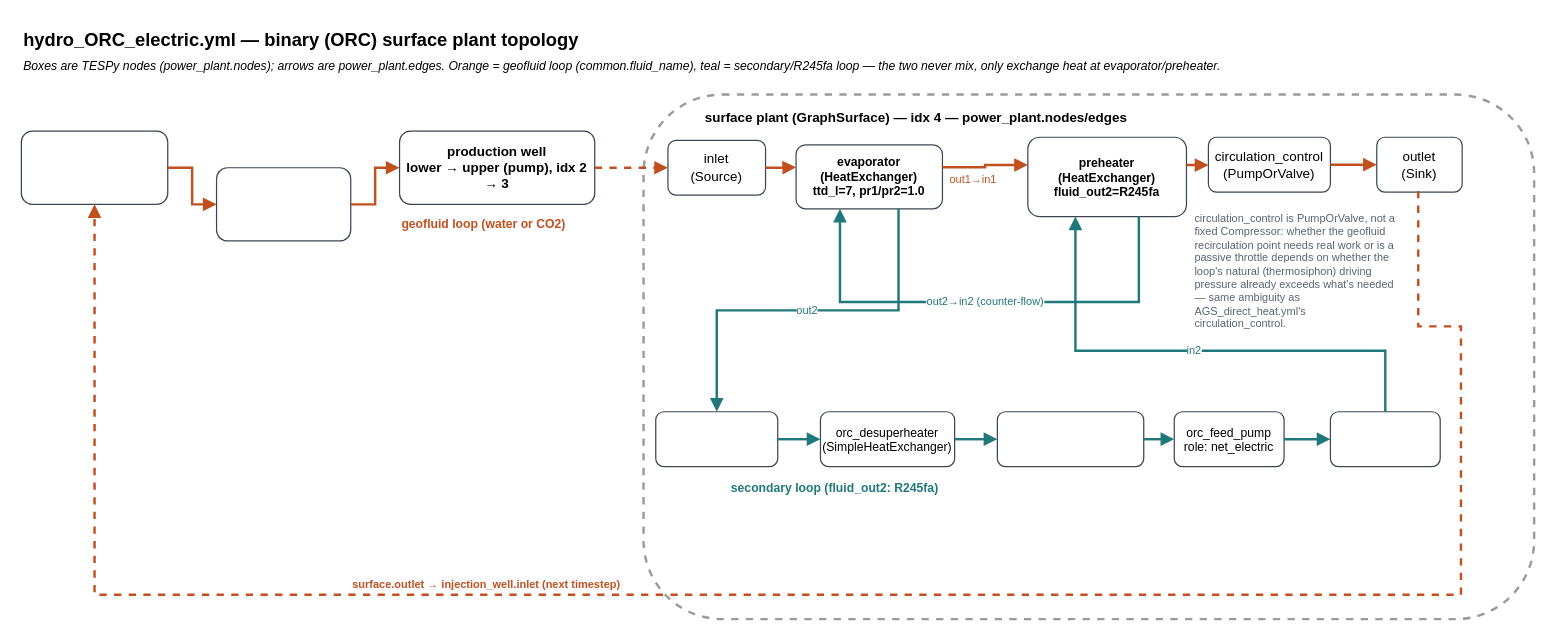
Some shapes in this 1557 by 641 pixel diagram are drawn without their labels. The shapes that lost their labels are listed below. From the top down, each one's centre as x and y in pixels, then its label:
At (94,167): "injection well component_idx 0".
At (283,204): "reservoir idx 1".
At (716,439): "orc_turbine role: net_electric".
At (1070,439): "orc_condenser (SimpleHeatExchanger)".
At (1384,439): "orc_cycle_closer (CycleCloser)".
